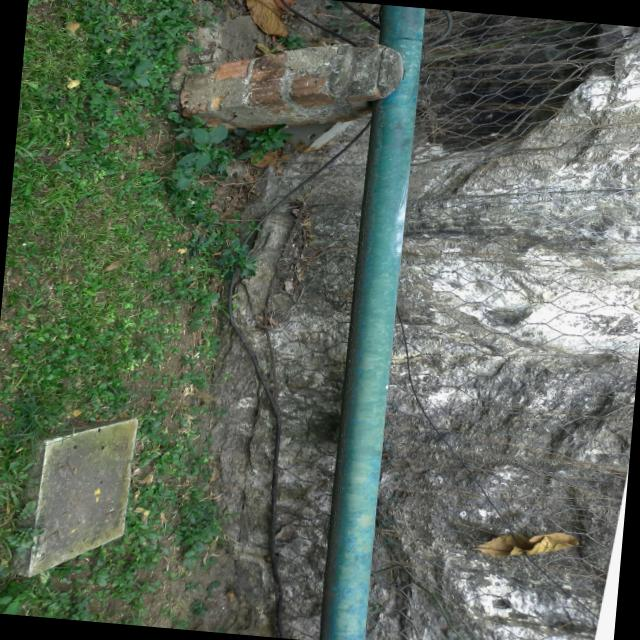gas: (318, 3, 426, 640)
